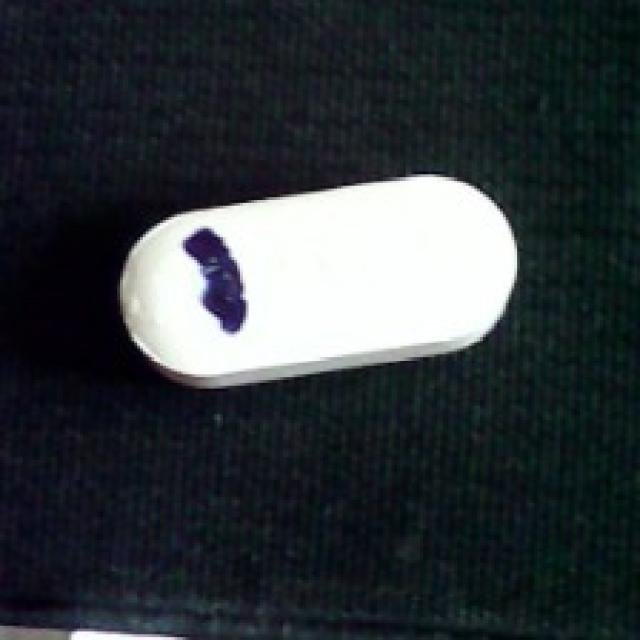defected: (108, 174, 526, 386)
